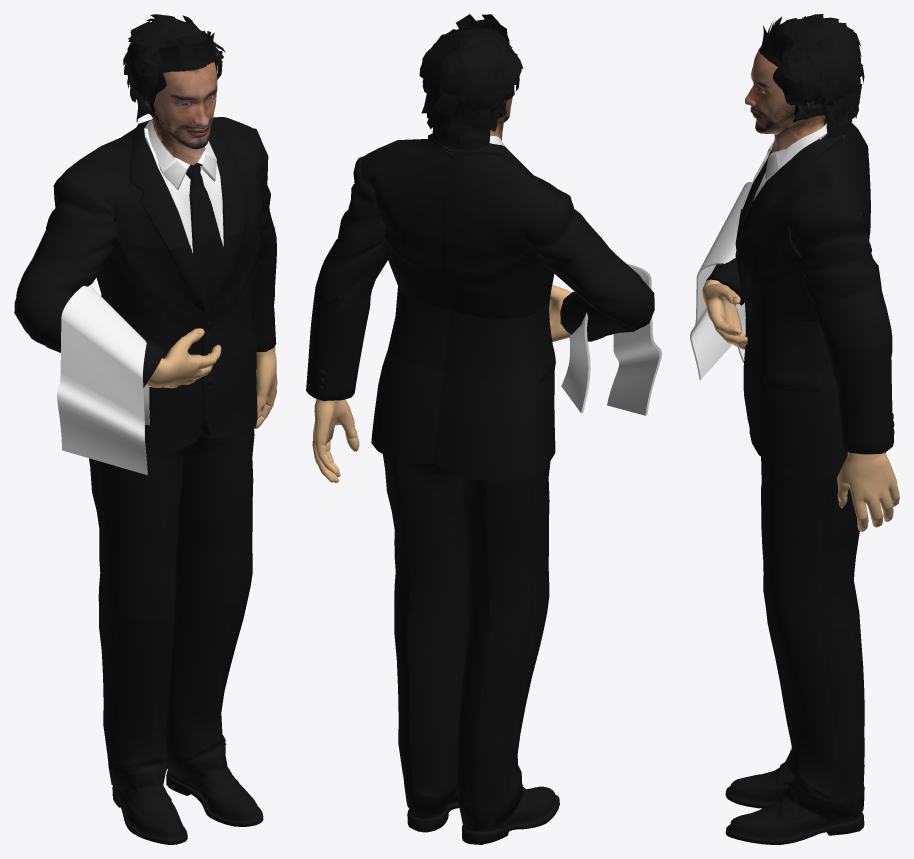
File: Waiter.FBX
The picture shows the model from 3 angles, left to right: view 1: azimuth 30°, elevation 25°; view 2: azimuth 150°, elevation 25°; view 3: azimuth 270°, elevation 25°; orthographic projection.
Parts seen in each view (by area): view 1: Line01, RightThigh02, Left Thigh02, Right Shin02, Chest02, RightCol~03, Left Shin02, RightSho~02, Hip02, LeftCollar02, shortSpike02, Abdomen02 (+10 smaller); view 2: Hip02, RightThigh02, Right Shin02, Left Shin02, Left Thigh02, Chest02, Abdomen02, shortSpike02, RightCol~03, RightSho~02, LeftCollar02, LeftShou~02 (+7 smaller); view 3: Left Thigh02, Left Shin02, LeftShou~02, LeftCollar02, Hip02, shortSpike02, LeftFore~03, Left Foot02, Abdomen02, Chest02, Line01, Left Hand02 (+8 smaller).
Part boxes in pixels (left/top/right/bottom): Line01: left=57, top=285, right=149, bottom=475; RightThigh02: left=89, top=455, right=183, bottom=621; Left Thigh02: left=176, top=428, right=254, bottom=605; Right Shin02: left=98, top=597, right=174, bottom=786; Chest02: left=96, top=201, right=263, bottom=317; RightCol~03: left=61, top=119, right=207, bottom=254; Left Shin02: left=166, top=587, right=250, bottom=768; RightSho~02: left=14, top=174, right=117, bottom=338; Hip02: left=145, top=343, right=257, bottom=459; LeftCollar02: left=193, top=117, right=265, bottom=240; shortSpike02: left=123, top=14, right=225, bottom=122; Abdomen02: left=101, top=280, right=256, bottom=363; Hip02: left=371, top=347, right=555, bottom=480; RightThigh02: left=459, top=461, right=550, bottom=631; Right Shin02: left=456, top=613, right=546, bottom=807; Left Shin02: left=394, top=598, right=469, bottom=797; Left Thigh02: left=383, top=454, right=469, bottom=614; Chest02: left=385, top=225, right=554, bottom=319; Abdomen02: left=388, top=286, right=554, bottom=382; shortSpike02: left=419, top=14, right=523, bottom=149; RightCol~03: left=440, top=143, right=561, bottom=262; RightSho~02: left=523, top=191, right=654, bottom=329; LeftCollar02: left=360, top=133, right=454, bottom=242; LeftShou~02: left=315, top=156, right=388, bottom=302; Left Thigh02: left=761, top=458, right=859, bottom=632; Left Shin02: left=767, top=620, right=864, bottom=804; LeftShou~02: left=790, top=208, right=892, bottom=349; LeftCollar02: left=741, top=133, right=870, bottom=263; Hip02: left=743, top=346, right=886, bottom=476; shortSpike02: left=759, top=14, right=864, bottom=137; LeftFore~03: left=825, top=337, right=894, bottom=454; Left Foot02: left=725, top=785, right=864, bottom=844; Abdomen02: left=742, top=291, right=834, bottom=381; Chest02: left=735, top=209, right=870, bottom=321; Line01: left=690, top=182, right=751, bottom=379; Left Hand02: left=837, top=452, right=899, bottom=531.
Size of the model in its own units: 0.7287 by 0.4444 by 1.86.
